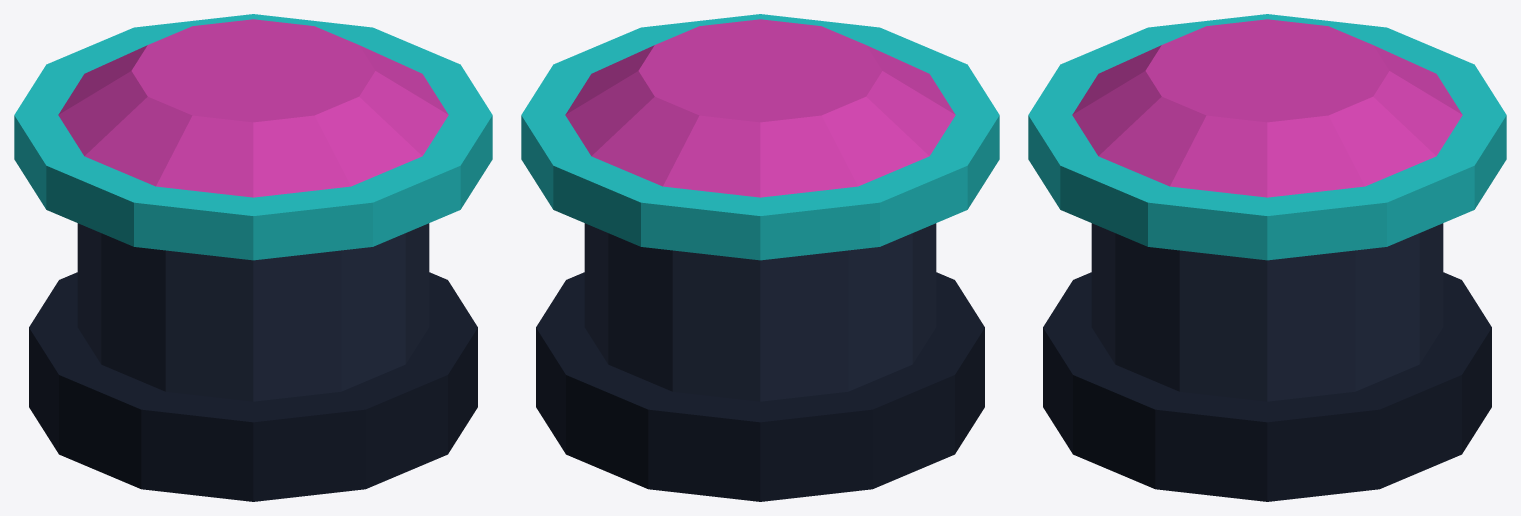
The model's file is Neon_PinballBumper_Simple.glb.
3 renders of one model, left to right at view 1: azimuth 30°, elevation 25°; view 2: azimuth 150°, elevation 25°; view 3: azimuth 270°, elevation 25°, orthographic.
Visible parts, largest first — view 1: Neon_PinballBumper_Simple; view 2: Neon_PinballBumper_Simple; view 3: Neon_PinballBumper_Simple.
Boxes of the visible parts, bbox=[...] form: Neon_PinballBumper_Simple: bbox=[14, 14, 492, 501]; Neon_PinballBumper_Simple: bbox=[521, 14, 999, 501]; Neon_PinballBumper_Simple: bbox=[1028, 14, 1506, 501].
Bounding box in the file's own units: 0.98 × 0.76 × 0.98.
